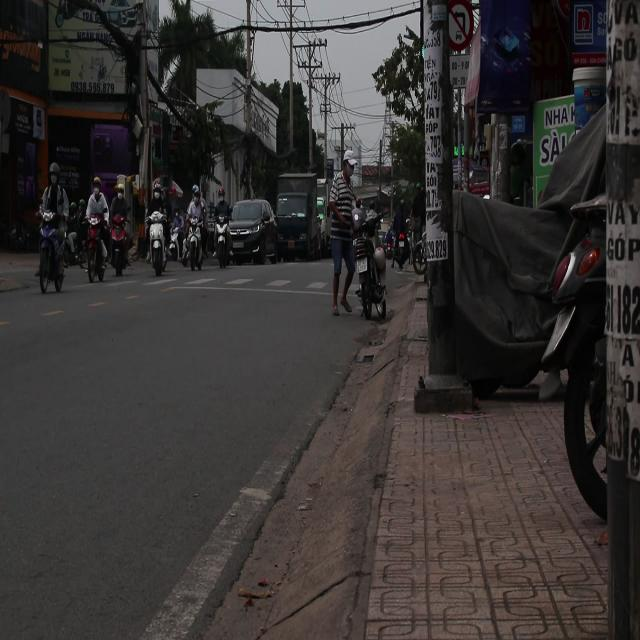car: (228, 198, 280, 264)
motorbike: (347, 194, 400, 340), (32, 200, 74, 305), (78, 212, 110, 284), (142, 210, 172, 277), (109, 212, 135, 280), (180, 216, 205, 272)
truck: (273, 176, 327, 264)
